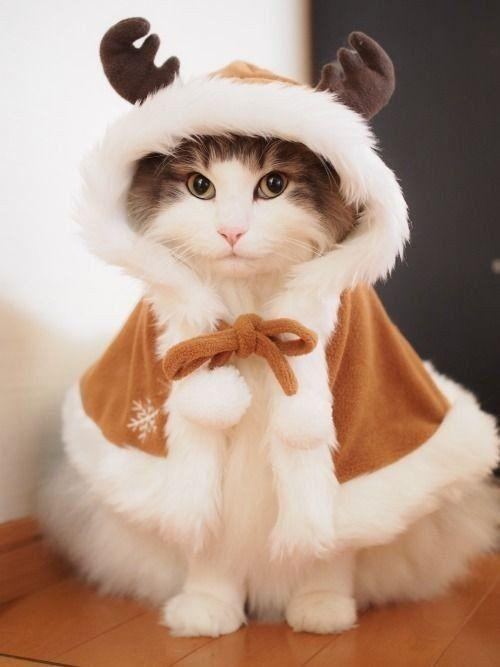kedo: (37, 134, 491, 636)
